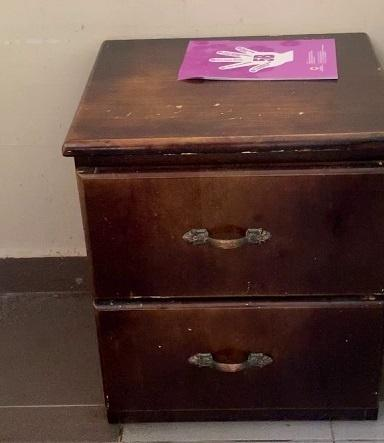cabinet_door: (89, 174, 384, 299), (98, 307, 382, 419)
handle: (180, 220, 271, 257), (186, 347, 274, 380)
